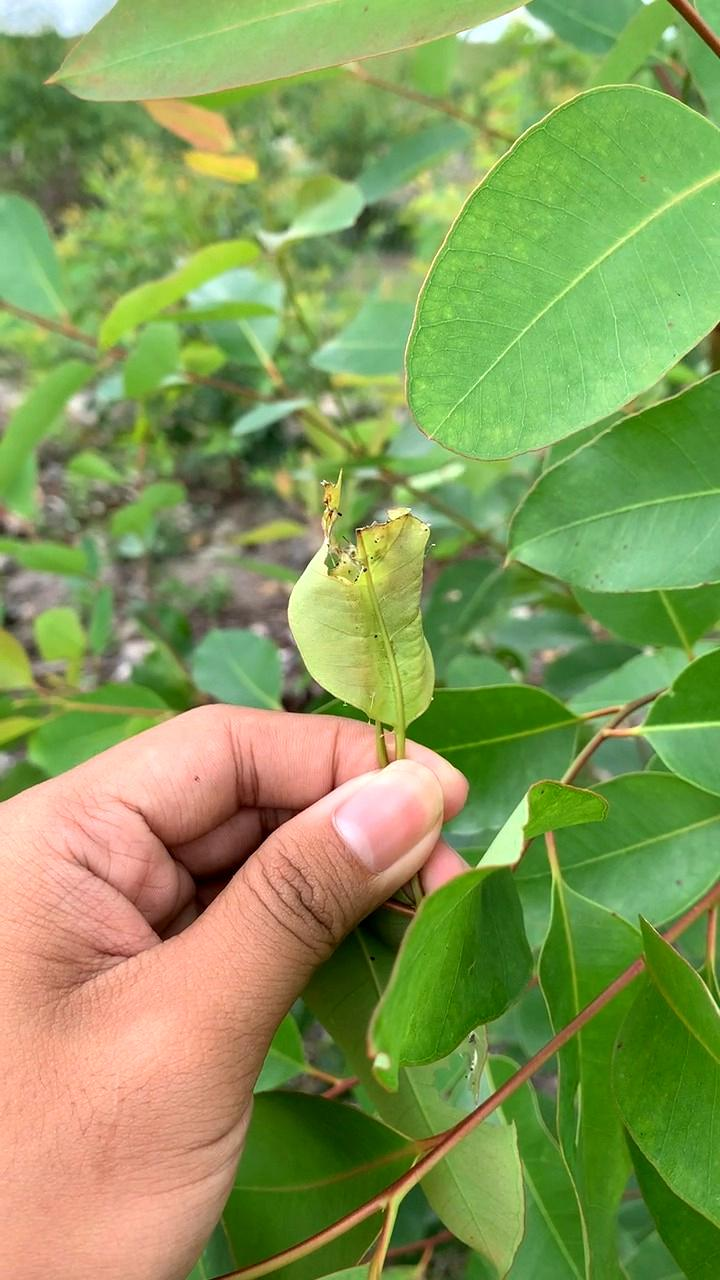Leaf Roller - Leaf: (283, 480, 451, 739)
